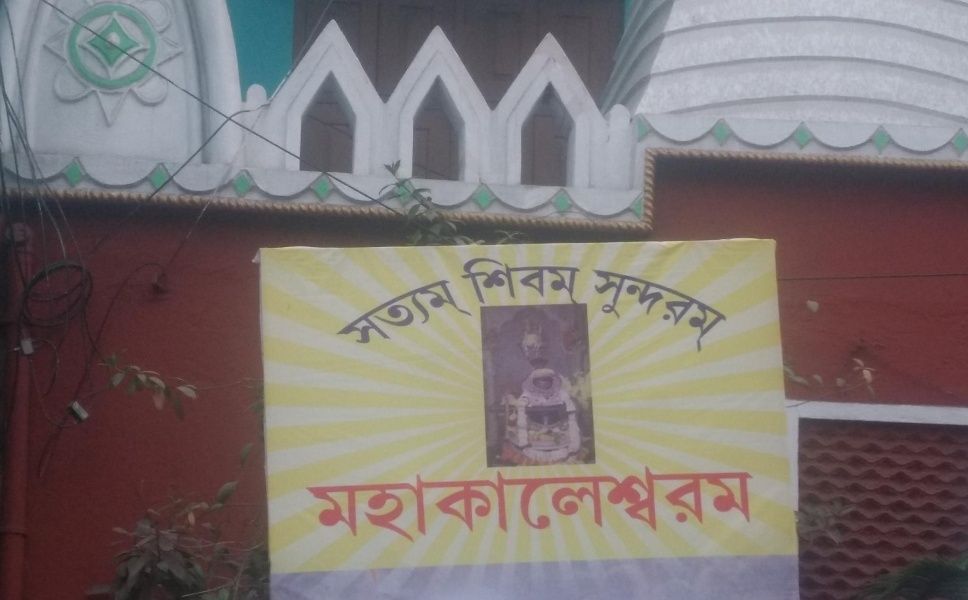text: (593, 263, 608, 358), (609, 263, 624, 358), (625, 263, 640, 358), (641, 263, 656, 358), (657, 263, 672, 358), (673, 263, 688, 358), (689, 263, 704, 358), (705, 263, 720, 358), (721, 263, 736, 358), (337, 274, 352, 367), (353, 274, 368, 367), (369, 274, 384, 367), (385, 274, 400, 367), (401, 274, 416, 367), (417, 274, 432, 367), (433, 274, 448, 367), (449, 274, 464, 367), (305, 461, 320, 549), (321, 461, 336, 549), (337, 461, 352, 549), (353, 461, 368, 549), (369, 461, 384, 549), (385, 461, 400, 549), (401, 461, 416, 549), (417, 461, 432, 549), (433, 461, 448, 549), (449, 461, 464, 549), (465, 461, 480, 549), (481, 461, 496, 549), (497, 461, 512, 549), (513, 461, 528, 549), (529, 461, 544, 549), (545, 461, 560, 549), (561, 461, 576, 549), (577, 461, 592, 549), (593, 461, 608, 549), (609, 461, 624, 549), (625, 461, 640, 549), (641, 461, 656, 549), (657, 461, 672, 549), (673, 461, 688, 549), (689, 461, 704, 549), (705, 461, 720, 549), (721, 461, 736, 549), (737, 461, 752, 549), (465, 274, 476, 367), (753, 461, 764, 549), (465, 248, 480, 308), (481, 248, 496, 308), (497, 248, 512, 308), (513, 248, 528, 308), (529, 248, 544, 308), (545, 248, 560, 308), (561, 248, 576, 308), (454, 248, 464, 308), (331, 274, 336, 367), (737, 263, 741, 358), (577, 248, 583, 308), (300, 461, 304, 549)
